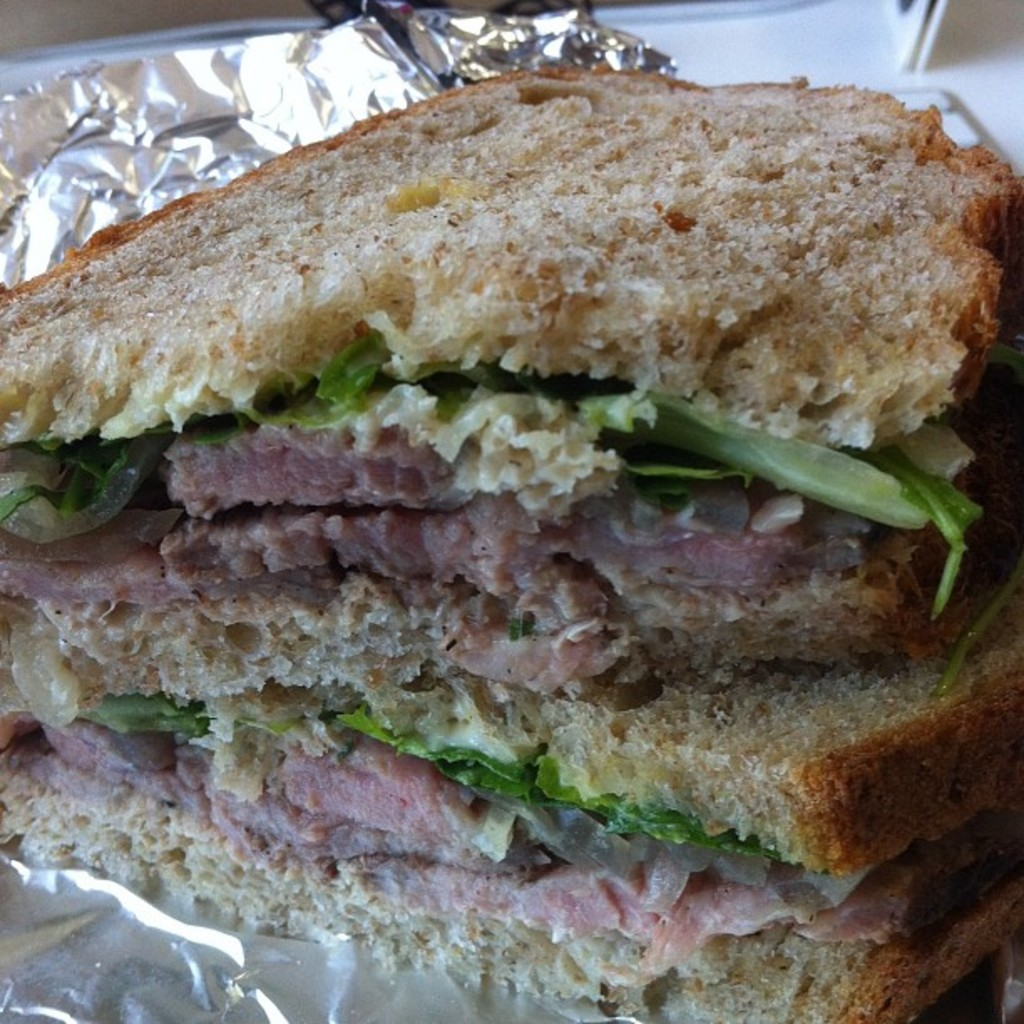sandwich: (0, 64, 1022, 1022)
